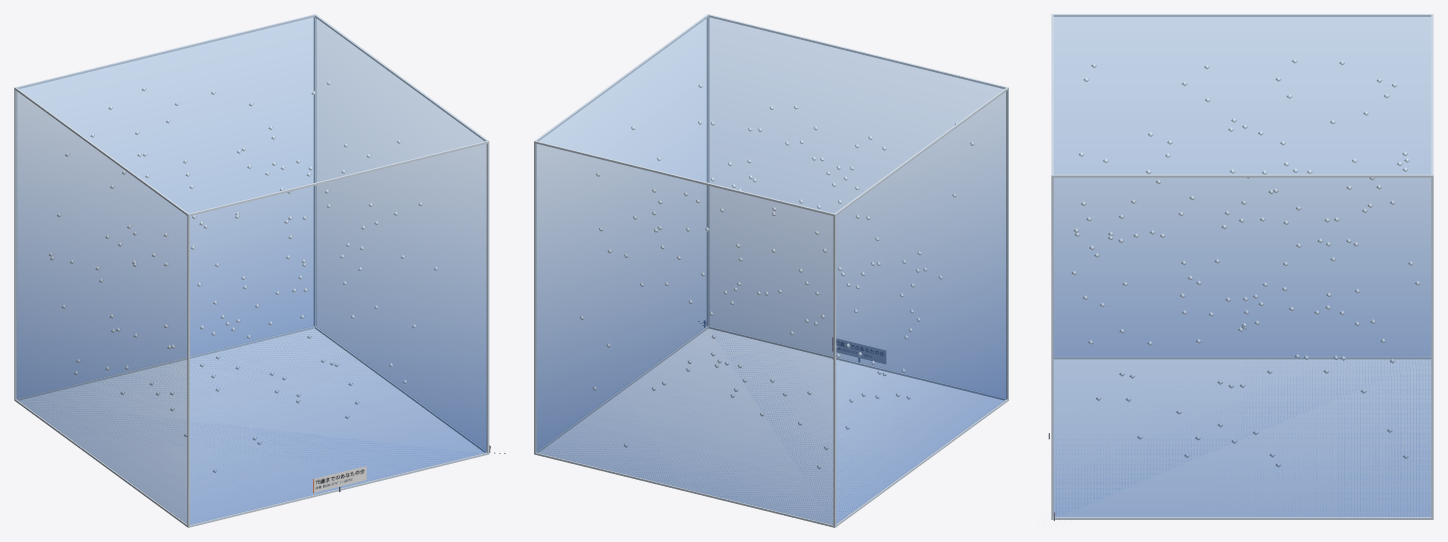
Rendered from cube_life_75.glb.
The picture shows the model from 3 angles, left to right: view 1: azimuth 30°, elevation 25°; view 2: azimuth 150°, elevation 25°; view 3: azimuth 270°, elevation 25°; orthographic projection. The views are drawn at different scales.
Visible parts, largest first — view 1: co2, edge, dots, label; view 2: co2, edge, dots, label; view 3: co2, edge, dots.
Boxes of the visible parts, x1=… form: co2: x1=16, y1=15, x2=486, y2=524; edge: x1=14, y1=14, x2=489, y2=527; dots: x1=49, y1=81, x2=438, y2=472; label: x1=313, y1=466, x2=366, y2=492; co2: x1=536, y1=15, x2=1006, y2=524; edge: x1=534, y1=14, x2=1008, y2=527; dots: x1=580, y1=83, x2=974, y2=469; label: x1=832, y1=337, x2=885, y2=363; co2: x1=1053, y1=15, x2=1431, y2=516; edge: x1=1051, y1=14, x2=1433, y2=519; dots: x1=1071, y1=58, x2=1420, y2=467.
Size of the model in its own units: 70.6 by 66.84 by 69.7.
Materials: 8 (3 with a texture image).
